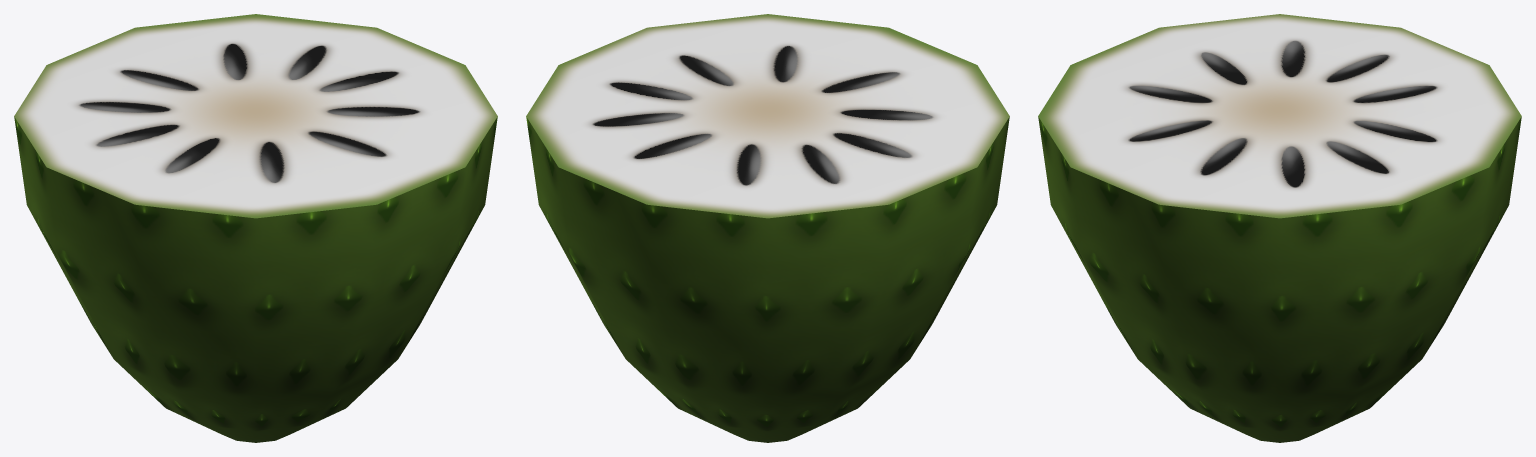
The model's file is Soursop_Half_01.fbx.
The picture shows the model from 3 angles, left to right: view 1: azimuth 30°, elevation 25°; view 2: azimuth 150°, elevation 25°; view 3: azimuth 270°, elevation 25°; orthographic projection.
Visible parts, largest first — view 1: Soursop_Half_01; view 2: Soursop_Half_01; view 3: Soursop_Half_01.
Boxes of the visible parts, bbox=[...] form: Soursop_Half_01: bbox=[14, 14, 497, 442]; Soursop_Half_01: bbox=[526, 14, 1009, 442]; Soursop_Half_01: bbox=[1038, 14, 1521, 442].
Size of the model in its own units: 42.16 by 31.91 by 42.16.
1 material, 1 textured.
